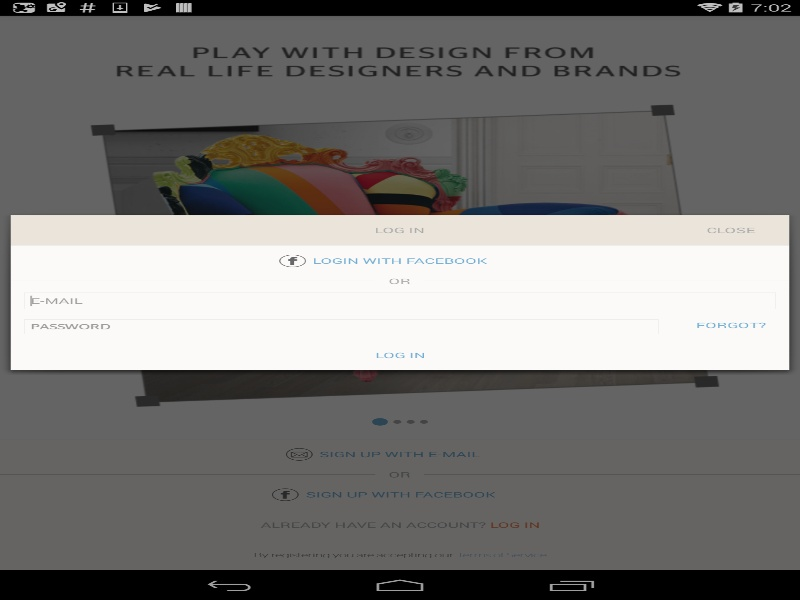Button: (306, 245, 493, 275), (672, 215, 789, 245), (672, 310, 789, 340), (341, 340, 458, 370)
Input: (24, 292, 776, 309), (24, 319, 658, 334)
